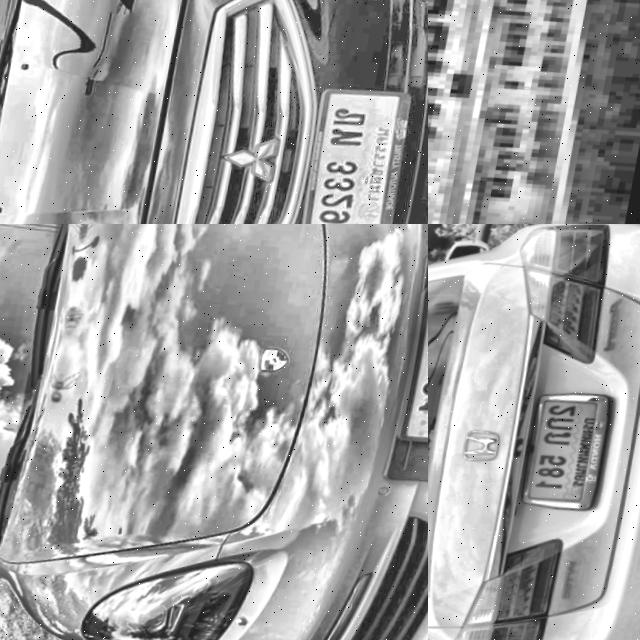license-plate: (428, 0, 640, 224), (295, 79, 428, 224), (513, 384, 624, 521), (394, 288, 428, 457)
